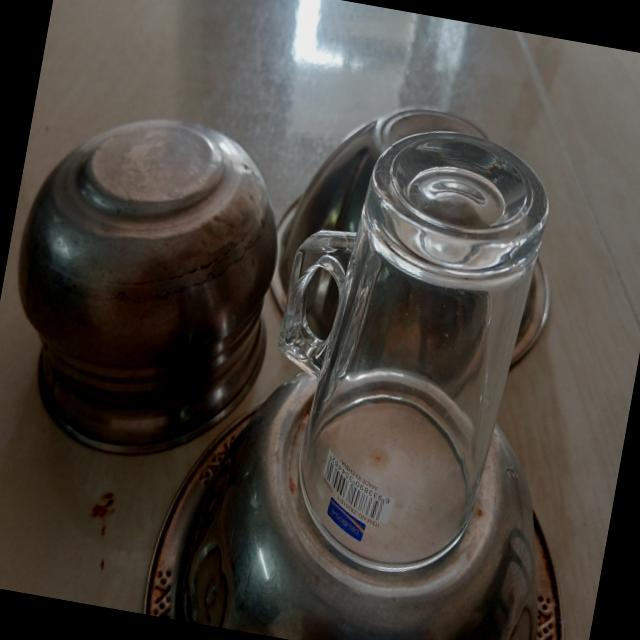glass-VX4N: (240, 110, 567, 592)
